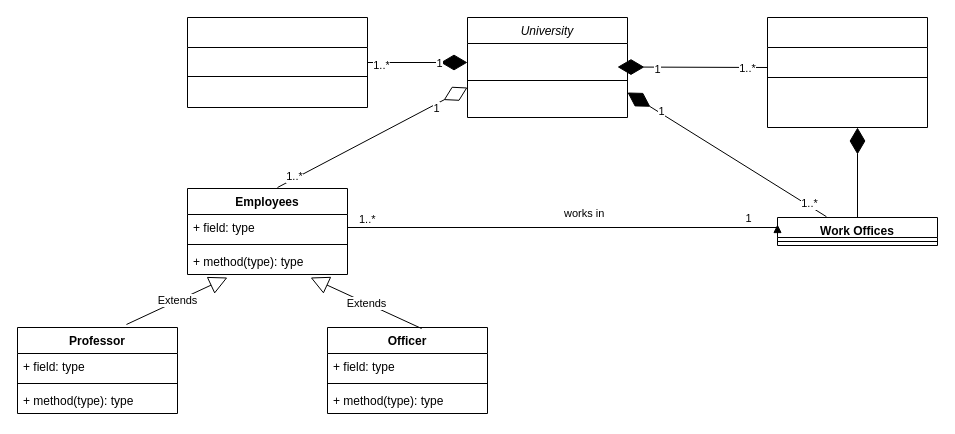
The diagram is 955 pixels wide and 434 high, and some of its shapes have lost their labels. The centre of each missing label's shape, as x and y in pixels:
"Classrooms" belongs at point (277, 62).
"Department" belongs at point (847, 72).
